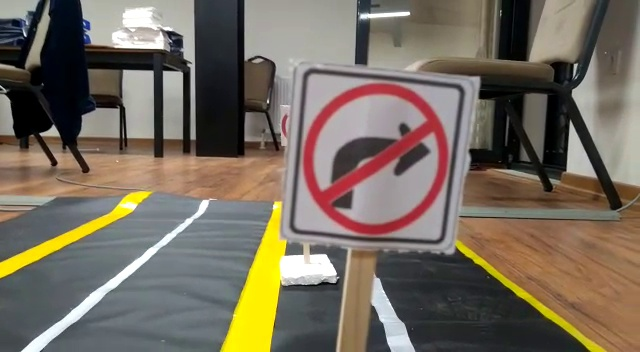saga_donulmez: (306, 77, 455, 232)
